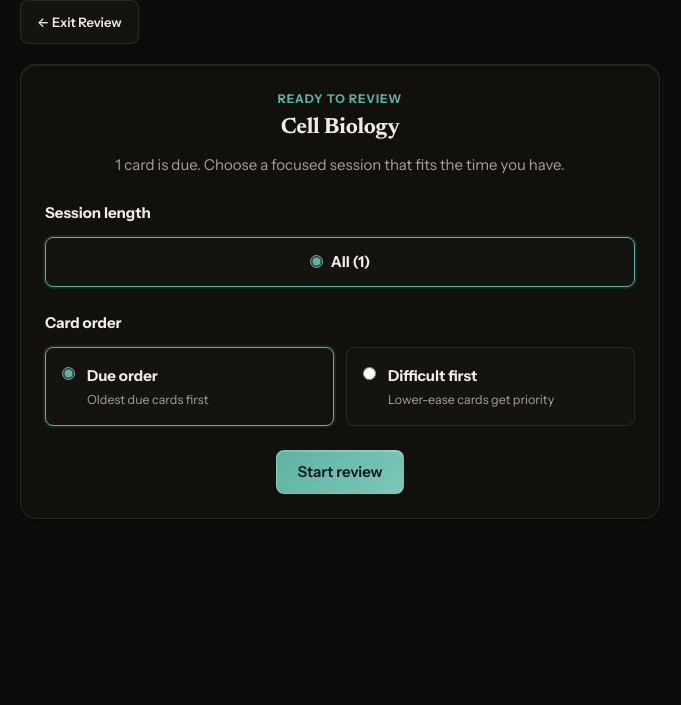
it: ReviewView › shows the completion screen after grading the last due card
The width and height of the screenshot is (681, 705).
What coordinates should you click on to do the following:
click the button "Start review"
I would click on:
 (340, 472)
Its box is x1=276 y1=450 x2=404 y2=494.
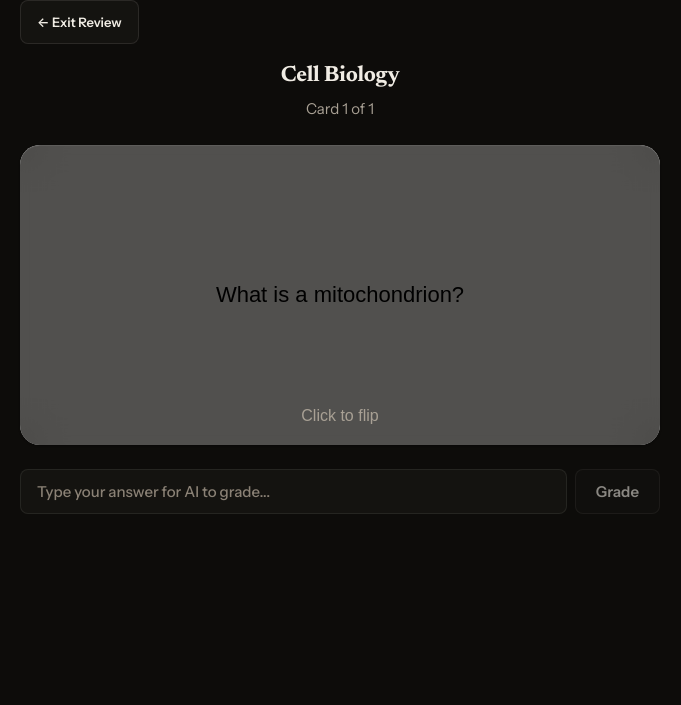
Expected: the text "What is a mitochondrion?" is shown, x1=216 y1=282 x2=464 y2=308
What coordinates should you click on to do the following:
click the button with aria-label "Flip card to see the answer"
I would click on:
 (340, 295)
Its box is x1=20 y1=145 x2=660 y2=445.
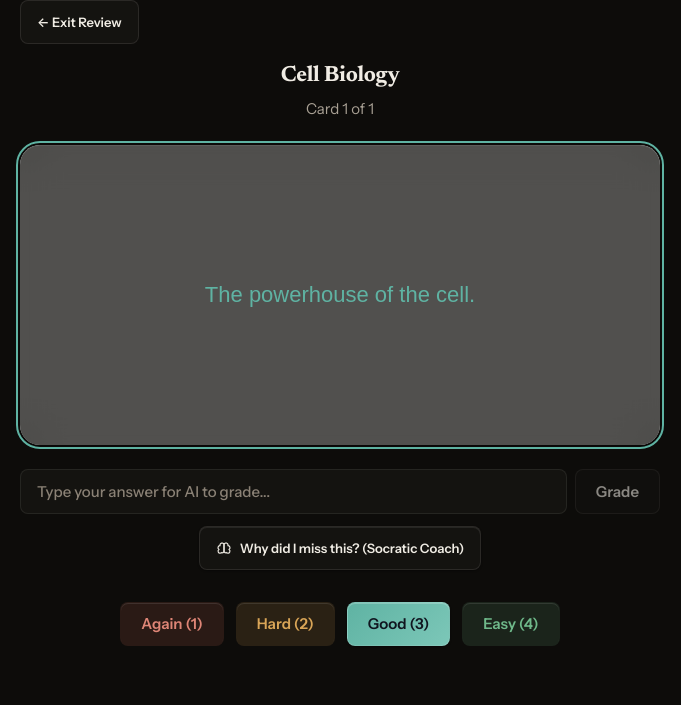
What coordinates should you click on to do the following:
click the button "Easy (4)"
I would click on:
 (511, 624)
Its box is x1=462 y1=602 x2=560 y2=646.
(page scrolled)
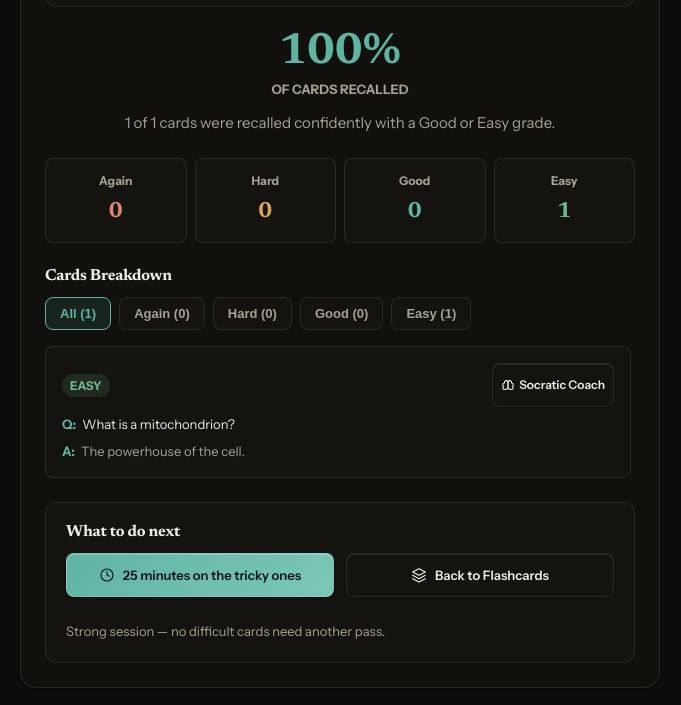
Expected: the text "100%" is shown, x1=279 y1=31 x2=401 y2=75
Expected: the text named "Easy count" reads "1", x1=557 y1=201 x2=571 y2=223
Expected: the text "Strong session — no difficult cards need another pass." is shown, x1=66 y1=623 x2=385 y2=639
